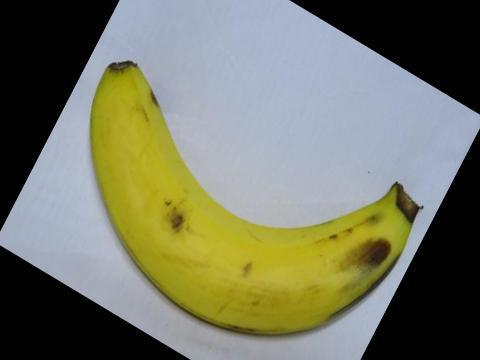freshripe: (68, 43, 432, 351)
